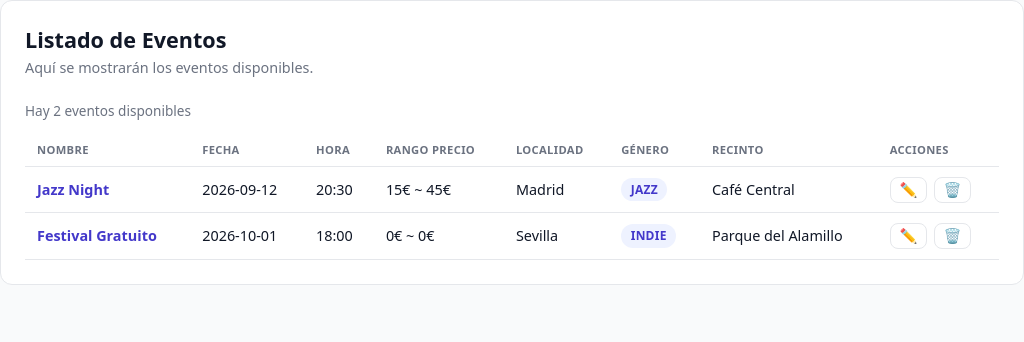
Test: EventList › delete (inline confirmation, no browser dialogs) › shows a delete-specific error and keeps the row when the service rejects
This screenshot has width=1024, height=342.
Click the button named "Eliminar Jazz Night" at (952, 190), box x1=934 y1=177 x2=971 y2=203
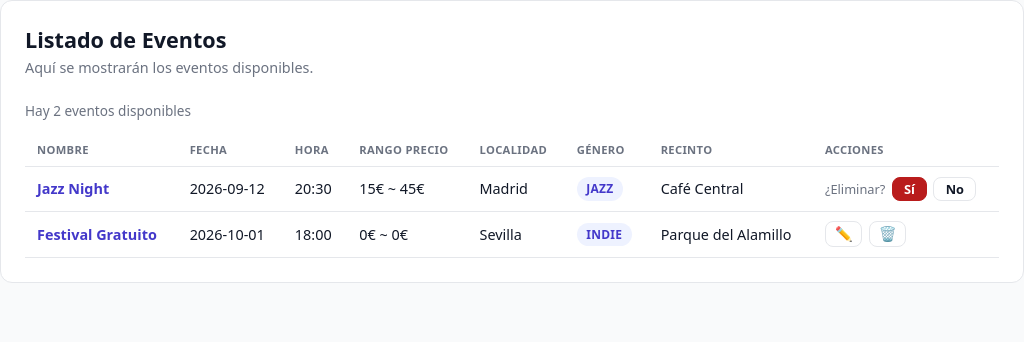
Click the button with aria-label "Confirmar eliminación de Jazz Night" at (909, 189), box x1=892 y1=177 x2=927 y2=201
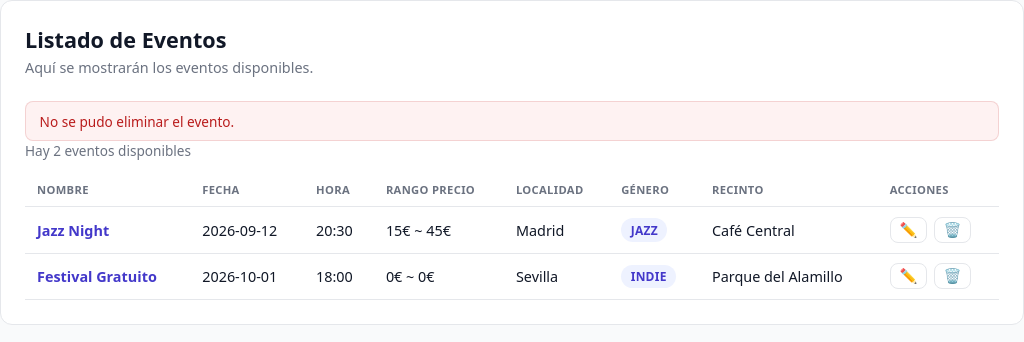
Check: the link "Jazz Night" is shown, box x1=37 y1=220 x2=109 y2=240
Check: the message reads "No se pudo eliminar el evento.", box x1=40 y1=112 x2=234 y2=131
